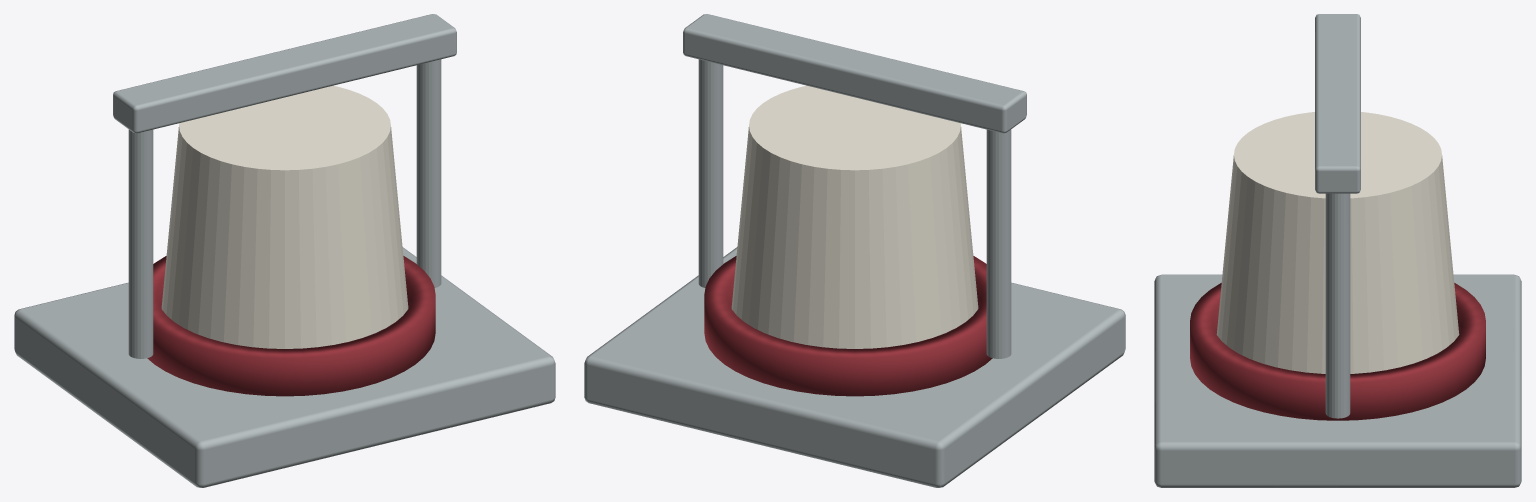
Rendered from pneumatic-tube-mail-exchange-pneumatic-tube-mail-excha-b240500d__32316.glb.
3 renders of one model, left to right at view 1: azimuth 30°, elevation 25°; view 2: azimuth 150°, elevation 25°; view 3: azimuth 270°, elevation 25°, orthographic.
Visible parts, largest first — view 1: pneumatic-tube-mail-exchange-carrier-ring-fitting-jig; view 2: pneumatic-tube-mail-exchange-carrier-ring-fitting-jig; view 3: pneumatic-tube-mail-exchange-carrier-ring-fitting-jig.
Part boxes in pixels (x1,y1,x2,y2): pneumatic-tube-mail-exchange-carrier-ring-fitting-jig: [14, 14, 555, 487]; pneumatic-tube-mail-exchange-carrier-ring-fitting-jig: [584, 14, 1125, 487]; pneumatic-tube-mail-exchange-carrier-ring-fitting-jig: [1154, 14, 1521, 487].
Size of the model in its own units: 0.4 by 0.34 by 0.36.
